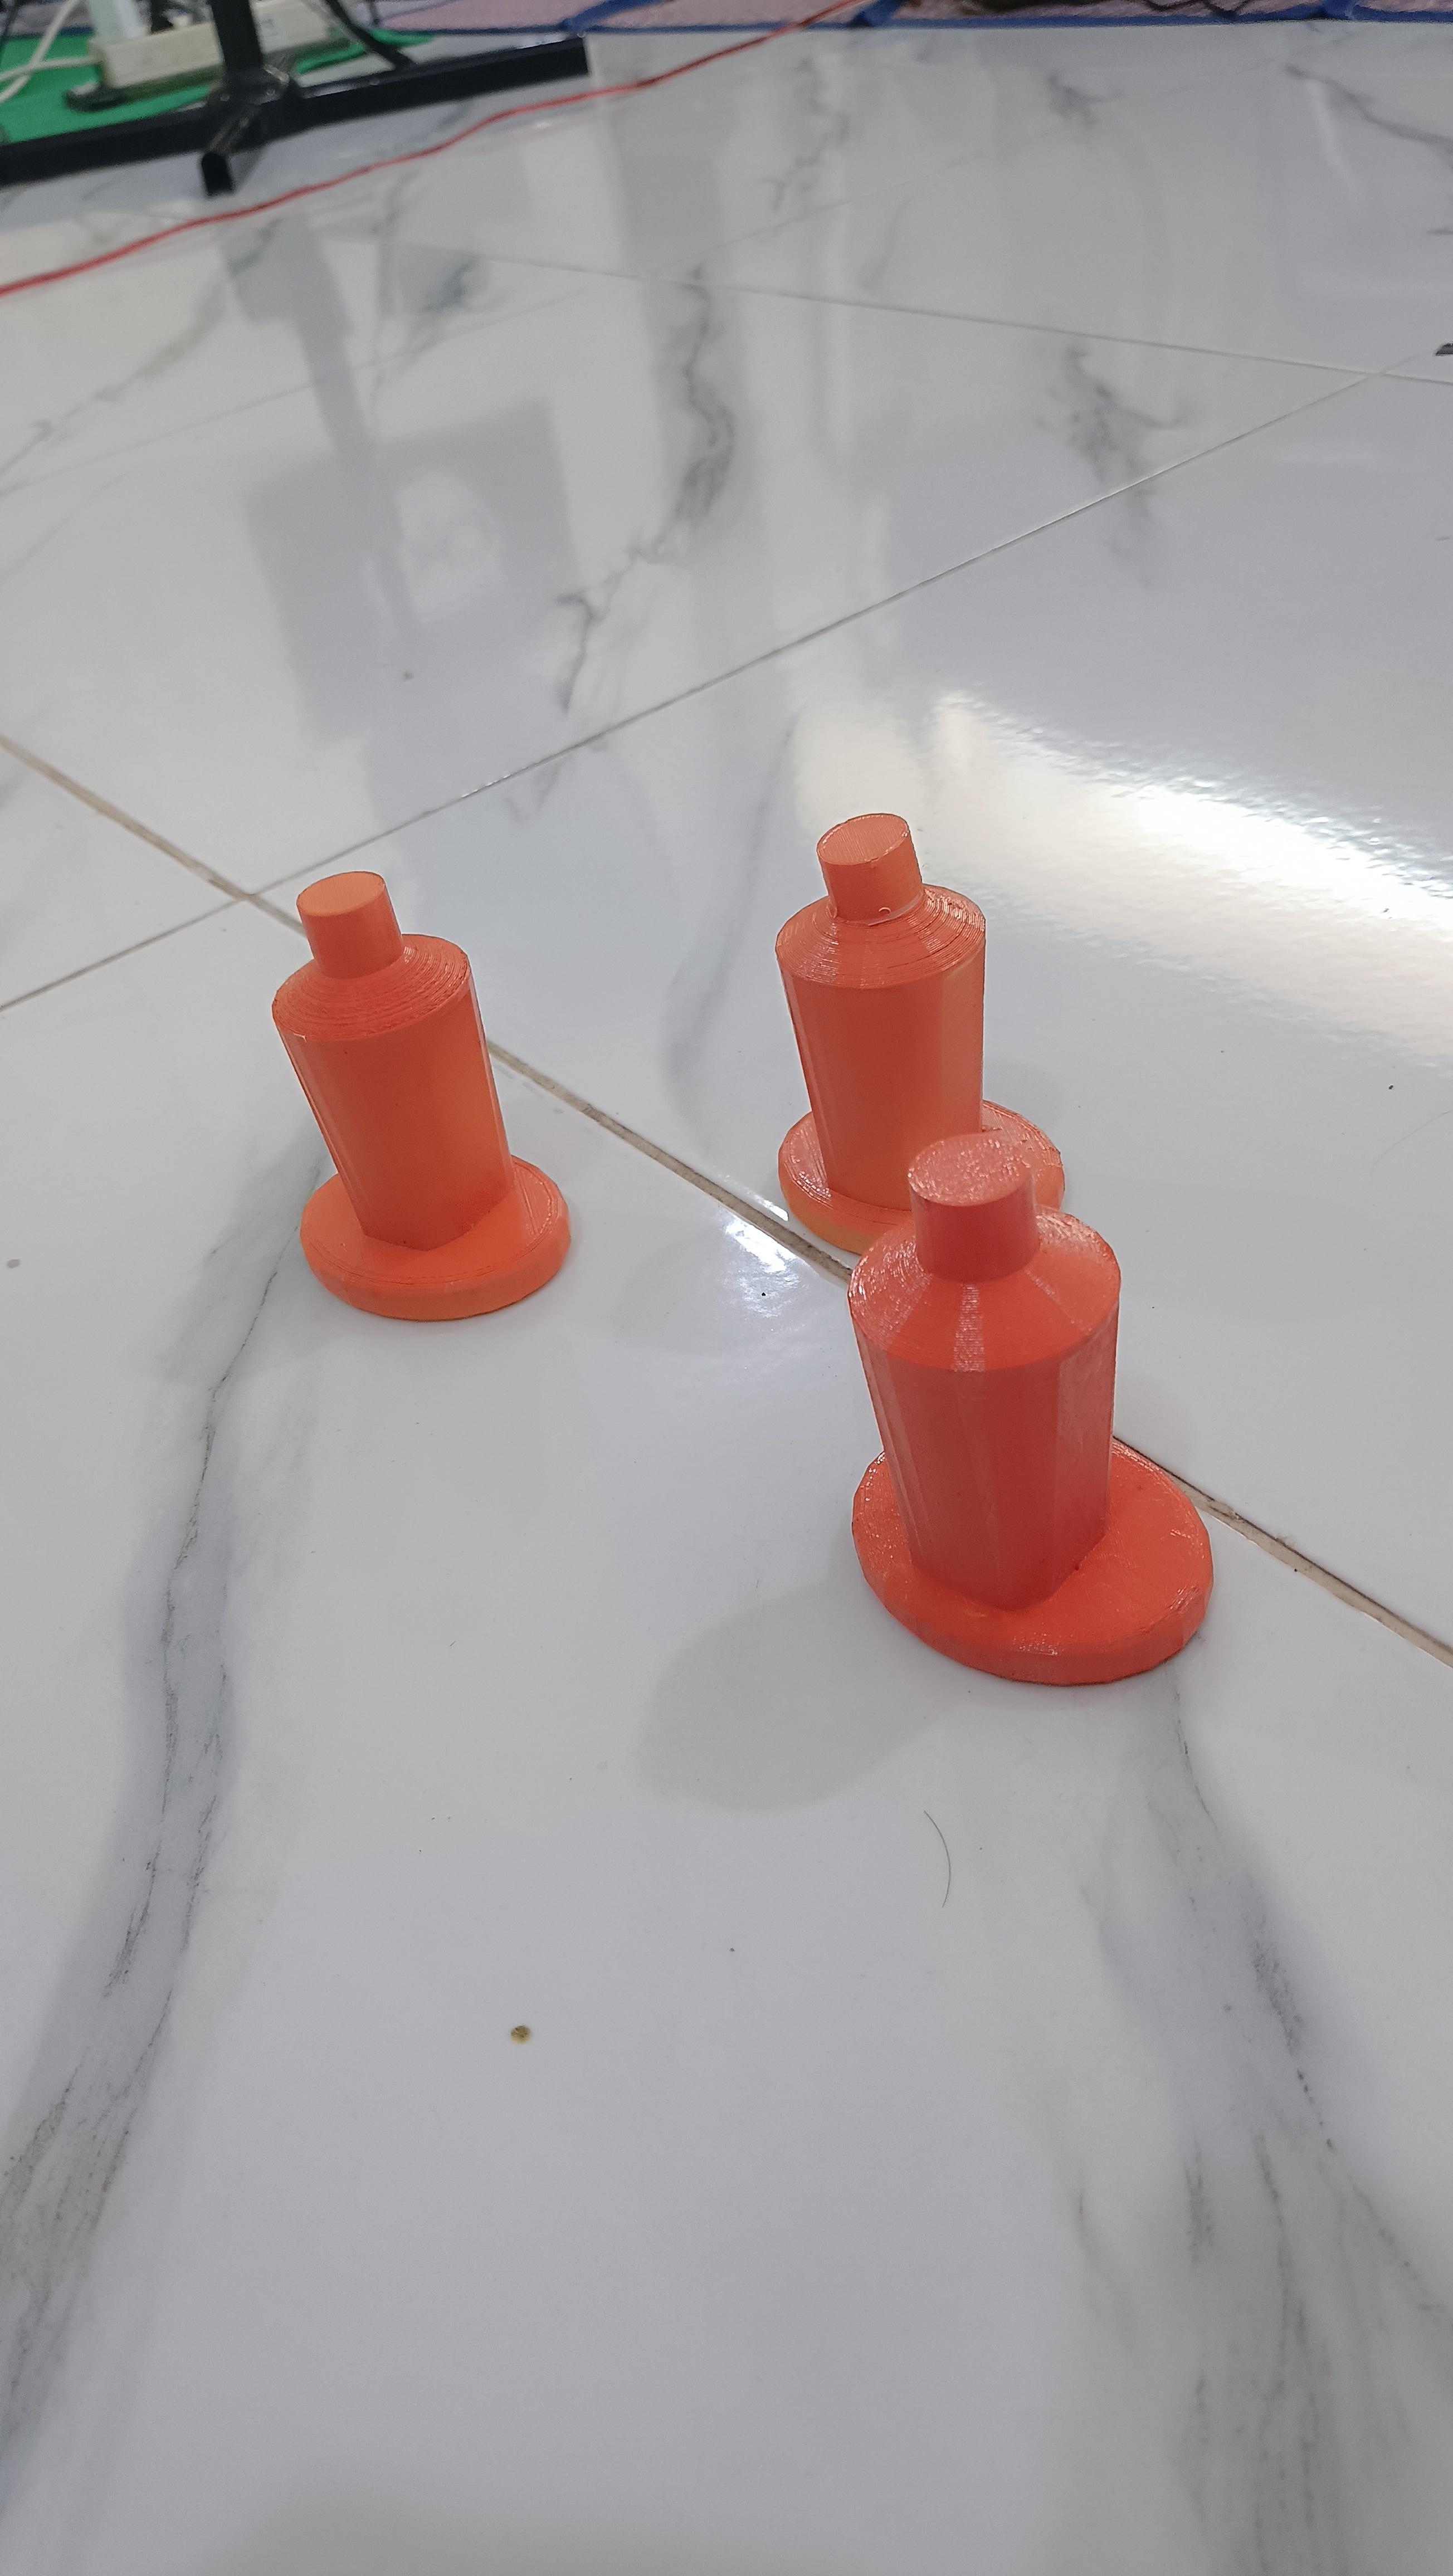dummy: (835, 1122, 1246, 1757), (181, 833, 602, 1371), (757, 786, 1053, 1258)
